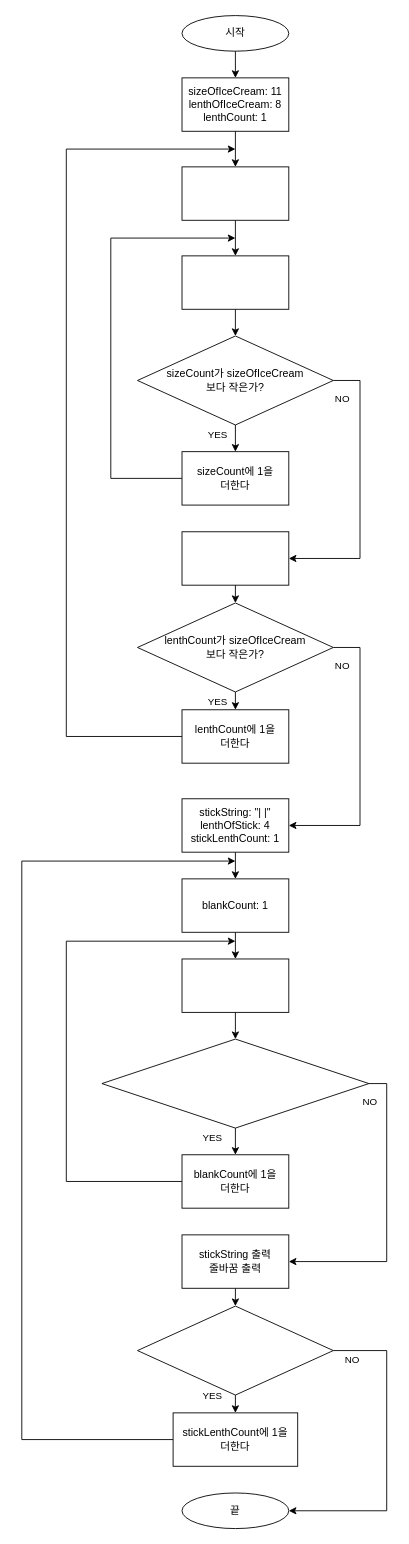
Some shapes in this 409 by 1544 pixel diagram are drawn without their labels. The shapes that lost their labels are listed below. From the top down, each one's box as (x1, y1, x2, y2) in pixels, then its label:
(181, 166, 289, 220): sizeCount: 1
(181, 255, 289, 309): "*" 출력
(181, 531, 289, 585): 줄바꿈 출력
(181, 958, 289, 1012): " " 출력
(101, 1038, 369, 1128): blankCount가 (sizeOfIceCream-stickString.count) / 2 보다 작은가?
(137, 1305, 333, 1395): stickLenthCount가 lenthOfStick 보다 작은가?
